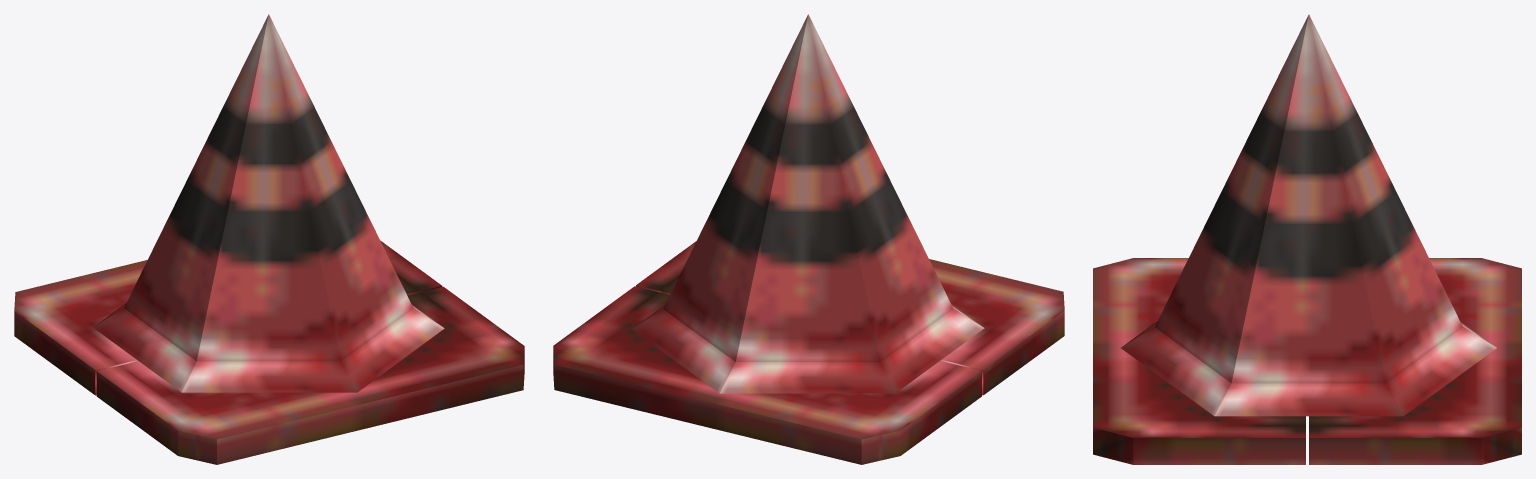
The model's file is Poly_SF_Outside_B_Traffic_Cone_01.obj.
The picture shows the model from 3 angles, left to right: view 1: azimuth 30°, elevation 25°; view 2: azimuth 150°, elevation 25°; view 3: azimuth 270°, elevation 25°; orthographic projection. The views are drawn at different scales.
Visible parts, largest first — view 1: Cube.001, Cube.002; view 2: Cube.001, Cube.002; view 3: Cube.001, Cube.002.
Part boxes in pixels (bbox=[...]): Cube.001: bbox=[93, 14, 444, 392]; Cube.002: bbox=[14, 240, 524, 464]; Cube.001: bbox=[632, 14, 984, 393]; Cube.002: bbox=[553, 241, 1064, 464]; Cube.001: bbox=[1121, 14, 1496, 416]; Cube.002: bbox=[1093, 258, 1521, 464].
Size of the model in its own units: 0.572 by 0.535 by 0.5758.
Materials: 1 (1 with a texture image).
